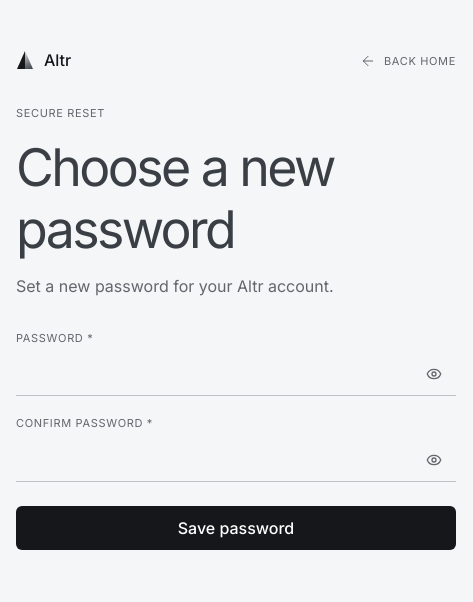
ResetPasswordForm › shows the calm rate-limited copy (not the invalid-link state) for the exact 429 string the route throws
Expected: the heading "Choose a new password" is shown, [16,136,334,261]
In the password field labelled "Password *": point(236, 374) [16,352,456,396], type "realpassword1"
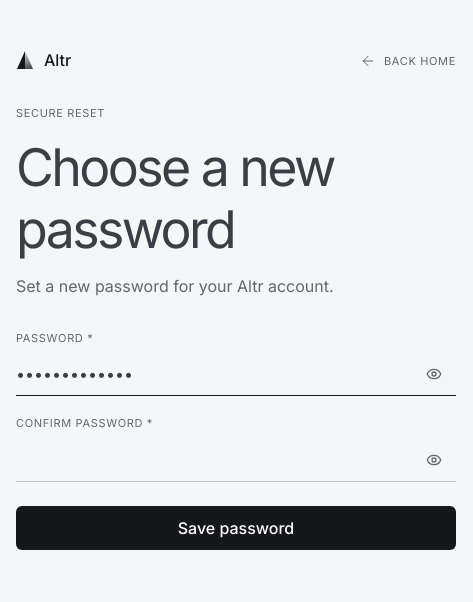
In the password field labelled "Confirm password *": point(236, 460) [16,438,456,482], type "realpassword1"
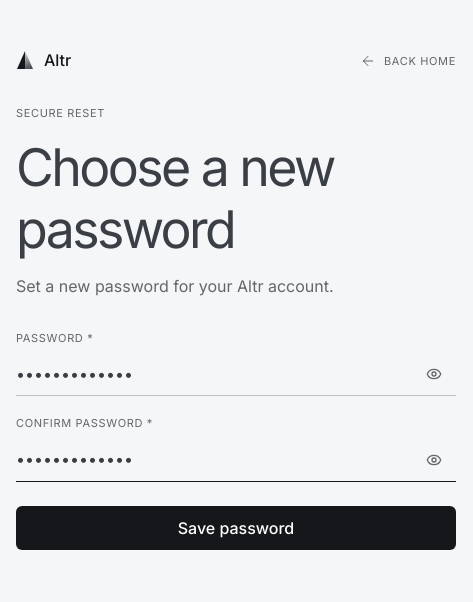
Click the button "Save password": point(236, 528) [16,506,456,550]
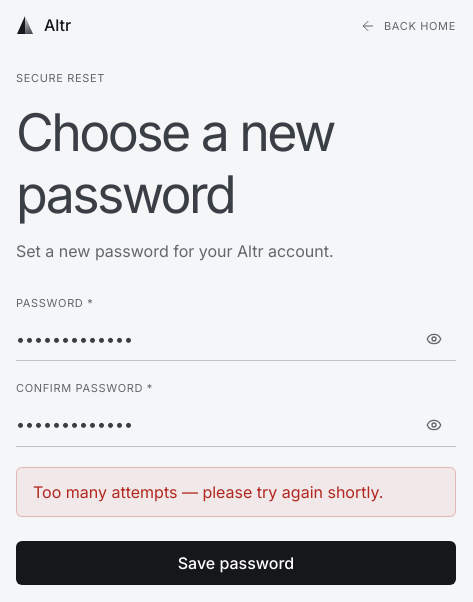
Expected: the message shows "Too many attempts", [33,482,383,502]
